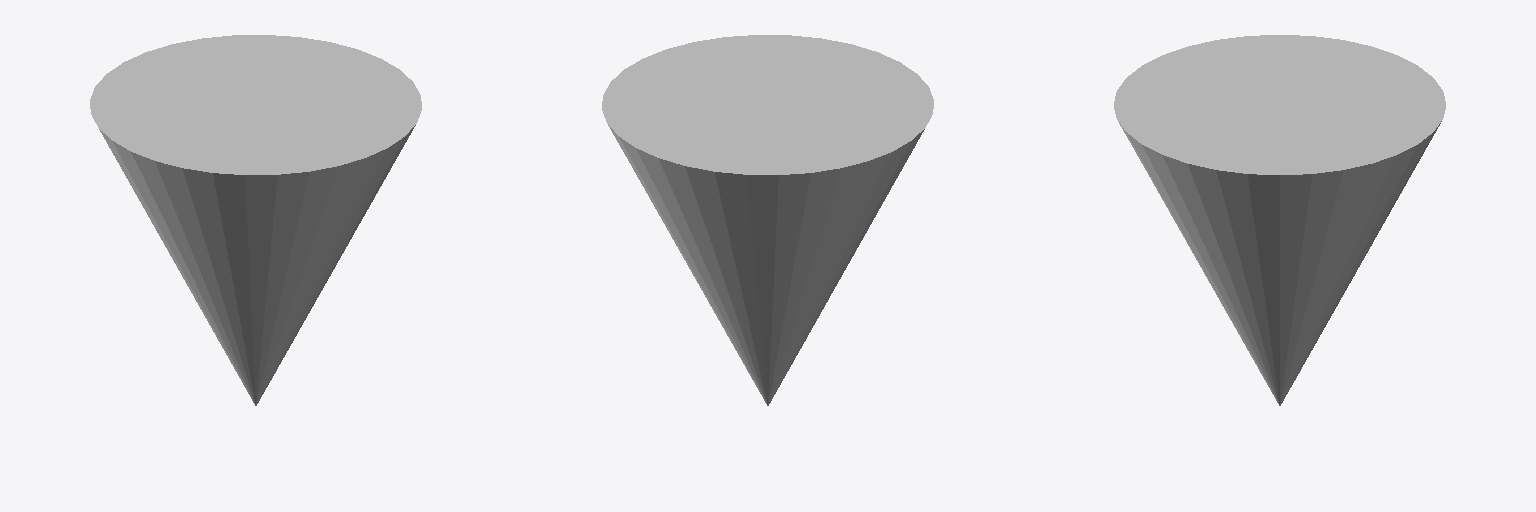
Rendered from cone_bulb1.obj.
3 renders of one model, left to right at view 1: azimuth 30°, elevation 25°; view 2: azimuth 150°, elevation 25°; view 3: azimuth 270°, elevation 25°, orthographic.
Parts seen in each view (by area): view 1: Cone.001; view 2: Cone.001; view 3: Cone.001.
Part boxes in pixels (x1,y1,x2,y2): Cone.001: (90, 35, 421, 405); Cone.001: (602, 35, 933, 405); Cone.001: (1114, 35, 1445, 405).
Size of the model in its own units: 0.9578 by 0.9578 by 0.9578.